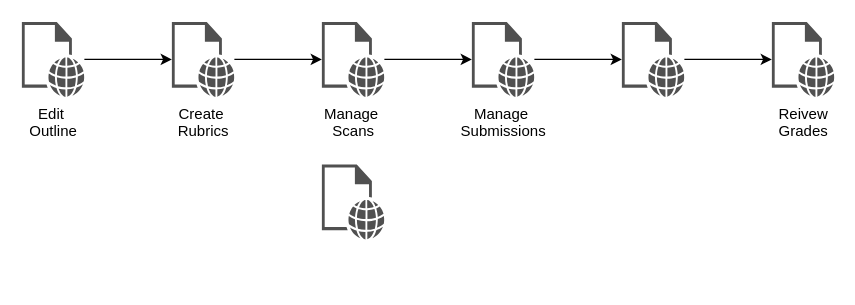
This 855x305 diagram has some shape labels left out. Here are the shapes that lost their labels. From the top down, the centre of each, then its label:
At (652,58): "Grade Submissions".
At (352,201): "Student Submits PDF and Marks Answers".
